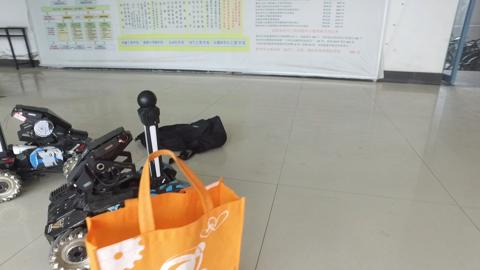chariot: (1, 99, 71, 199)
